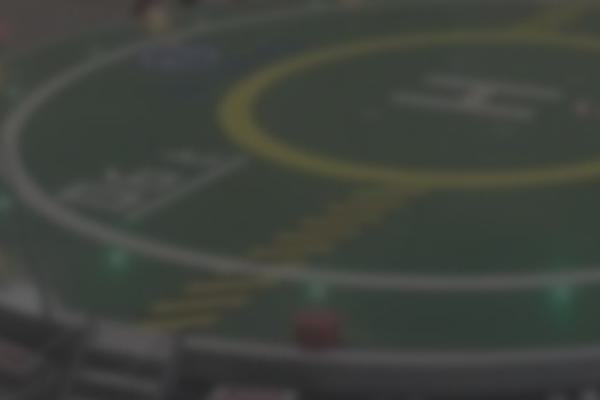Apron: (211, 21, 596, 193)
